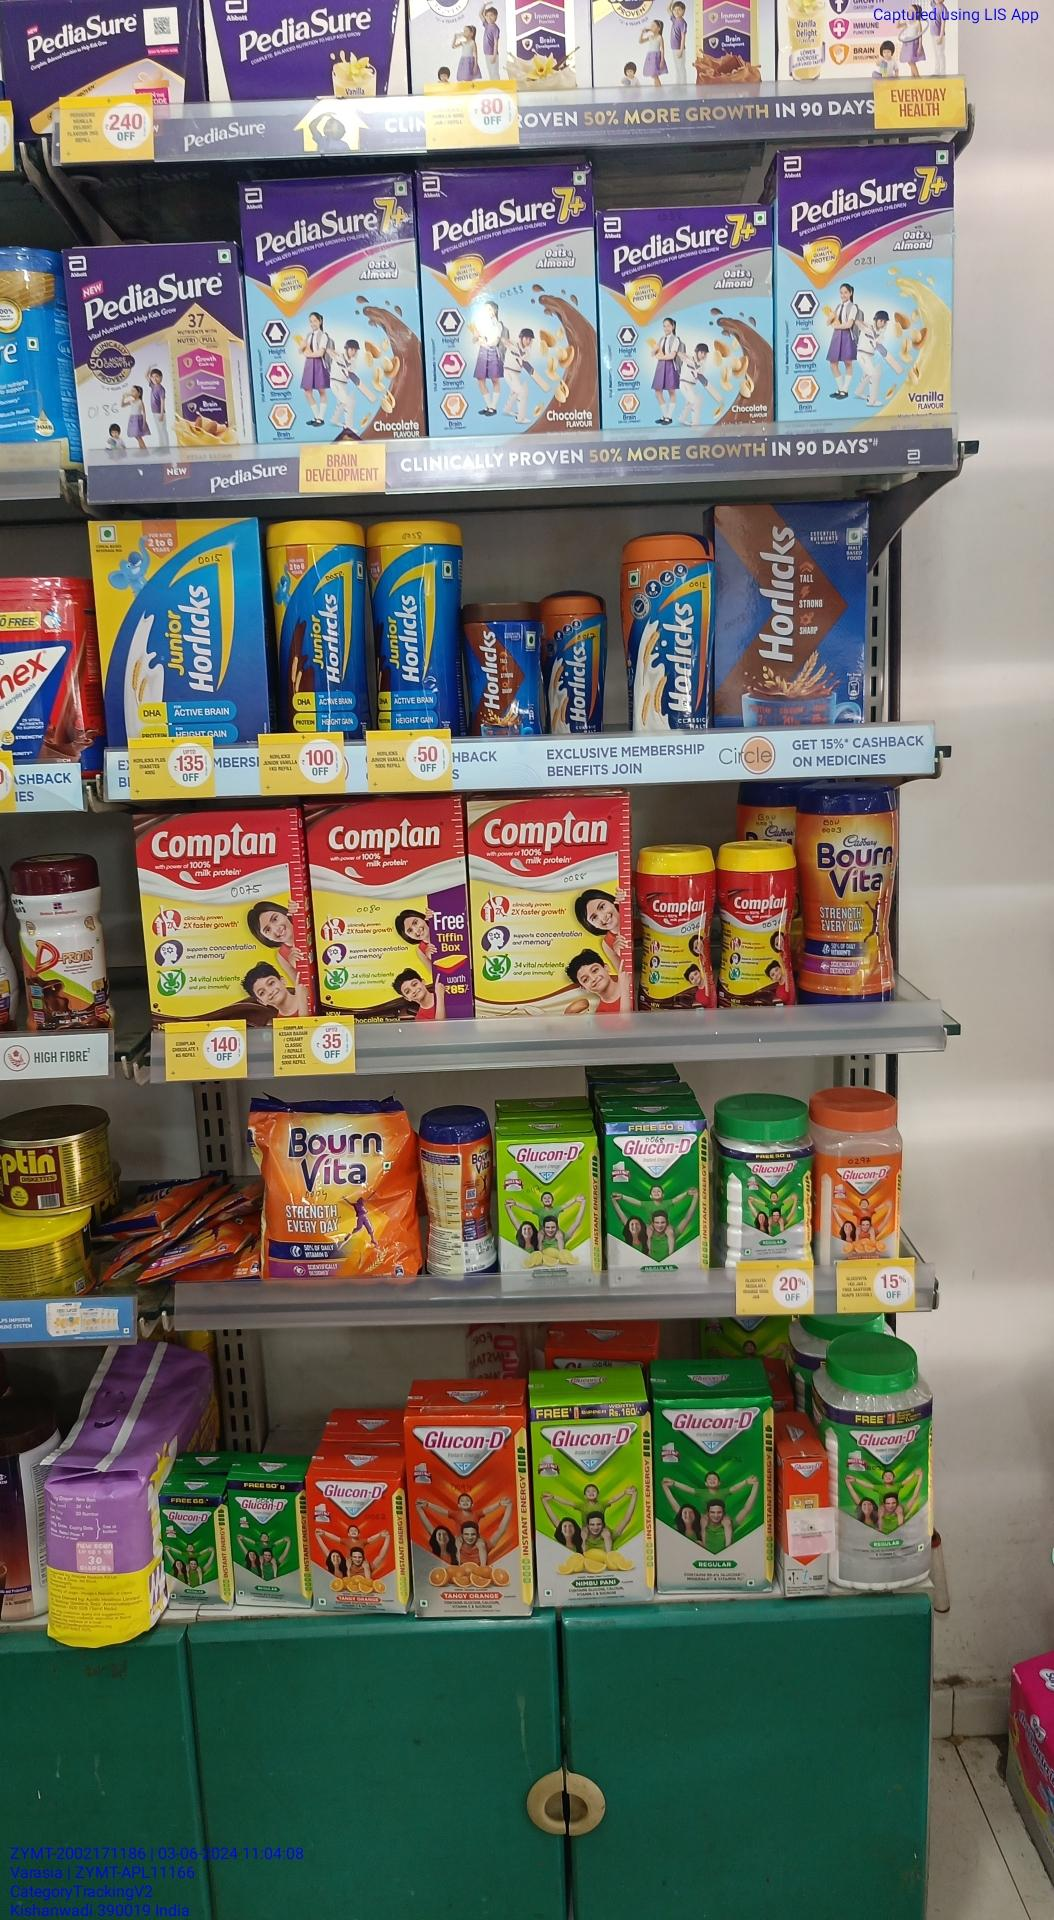COMPLAN_CHOCOLATE_200_GMS_JAR: (718, 841, 797, 1012), (636, 847, 710, 1018)
HORLICK_CLASSIC_MALT_200_G_JAR: (545, 588, 606, 736)
HORLICK_CLASSIC_MALT_500_G_JAR: (618, 533, 714, 730)
PEDIASURE_7_PLUS_CHOCOLATE_400_G_PACK: (600, 206, 768, 435)
PEDIASURE_VANILLA_500_G_PACK: (67, 237, 245, 474)
